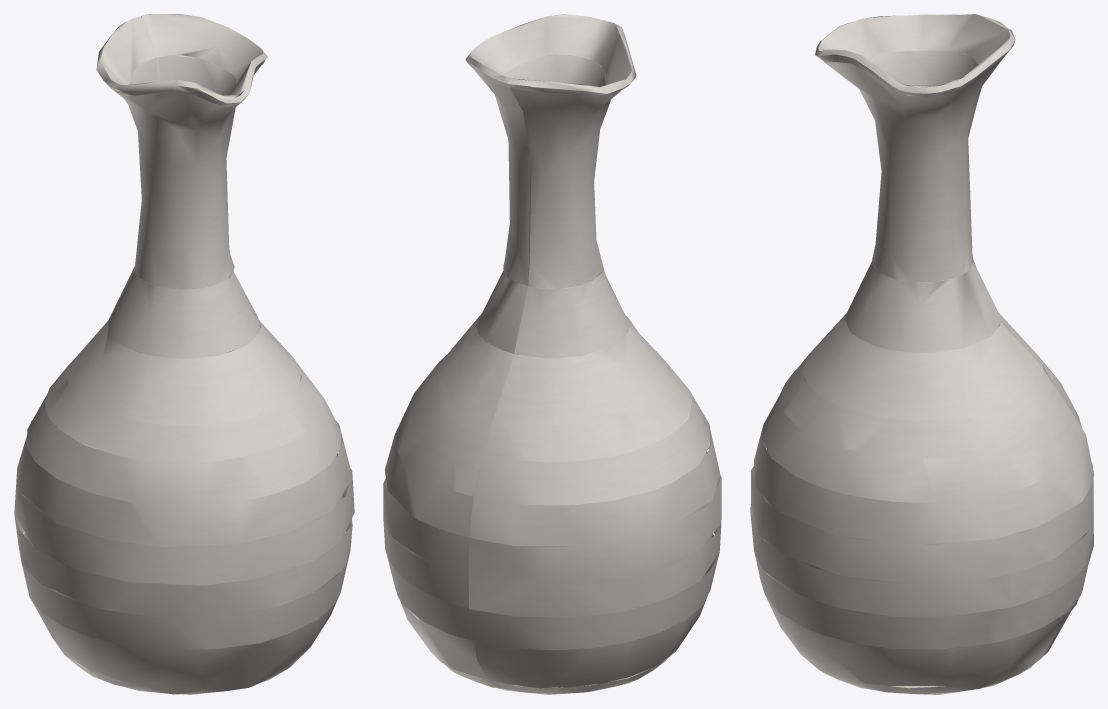
The model's file is ceramic_vase_01.glb.
3 renders of one model, left to right at view 1: azimuth 30°, elevation 25°; view 2: azimuth 150°, elevation 25°; view 3: azimuth 270°, elevation 25°, orthographic.
Parts seen in each view (by area): view 1: ceramic_vase_01; view 2: ceramic_vase_01; view 3: ceramic_vase_01.
Boxes of the visible parts, left/top/right/bottom form: ceramic_vase_01: left=14, top=14, right=354, bottom=694; ceramic_vase_01: left=383, top=14, right=721, bottom=694; ceramic_vase_01: left=750, top=14, right=1093, bottom=694.
Size of the model in its own units: 0.2054 by 0.4005 by 0.2034.
1 material, 1 textured.
